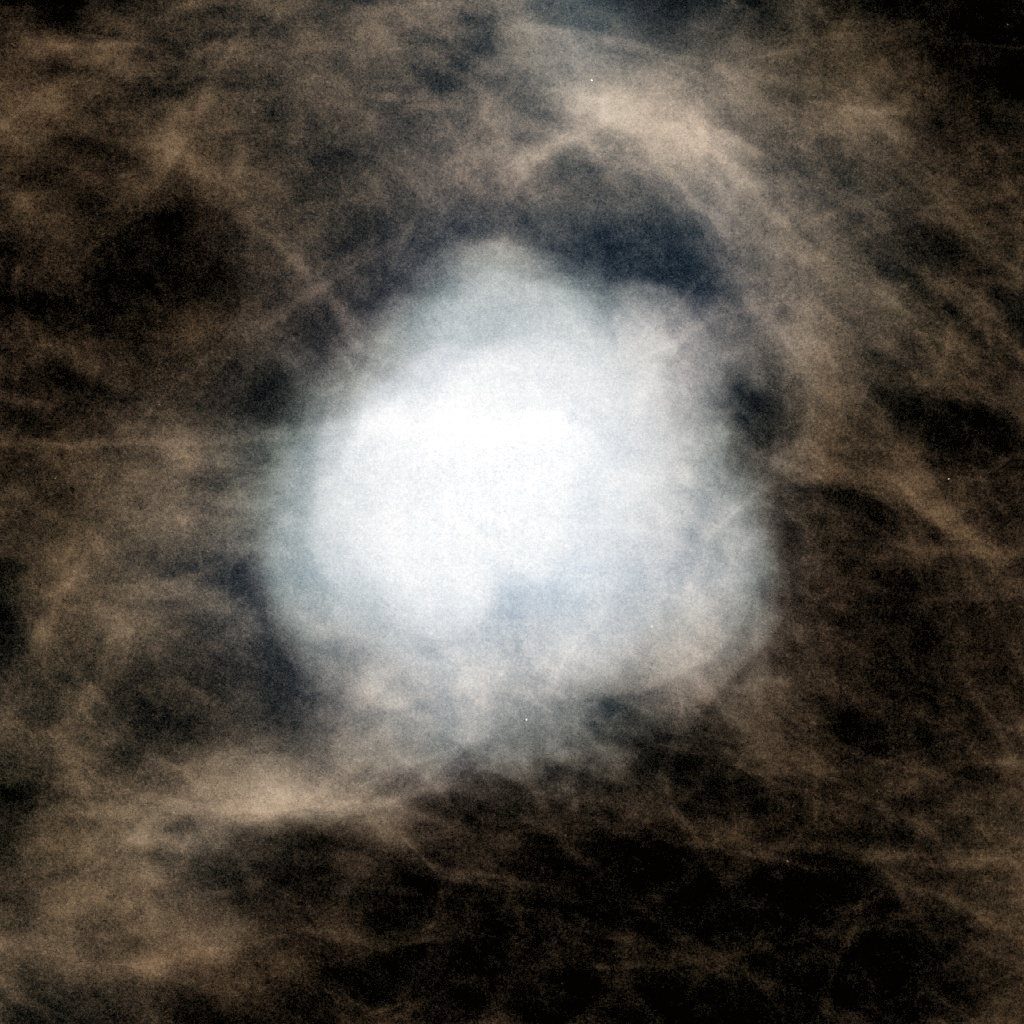tumor: (261, 276, 763, 748)
